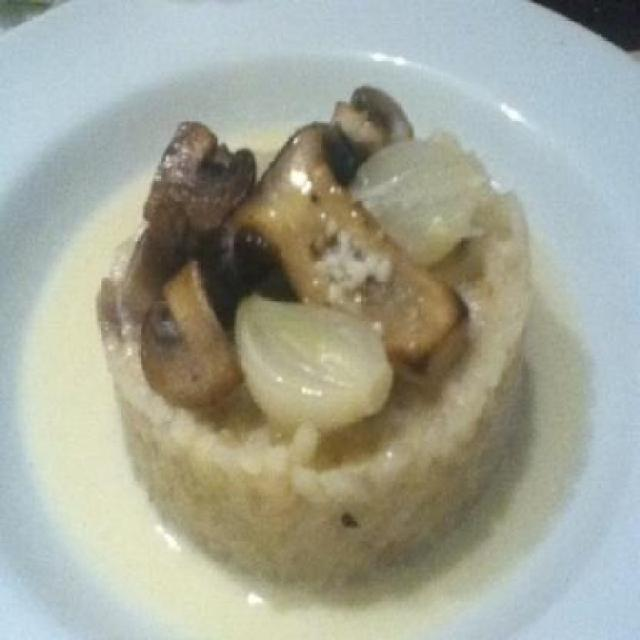Risotto: (80, 94, 572, 578)
